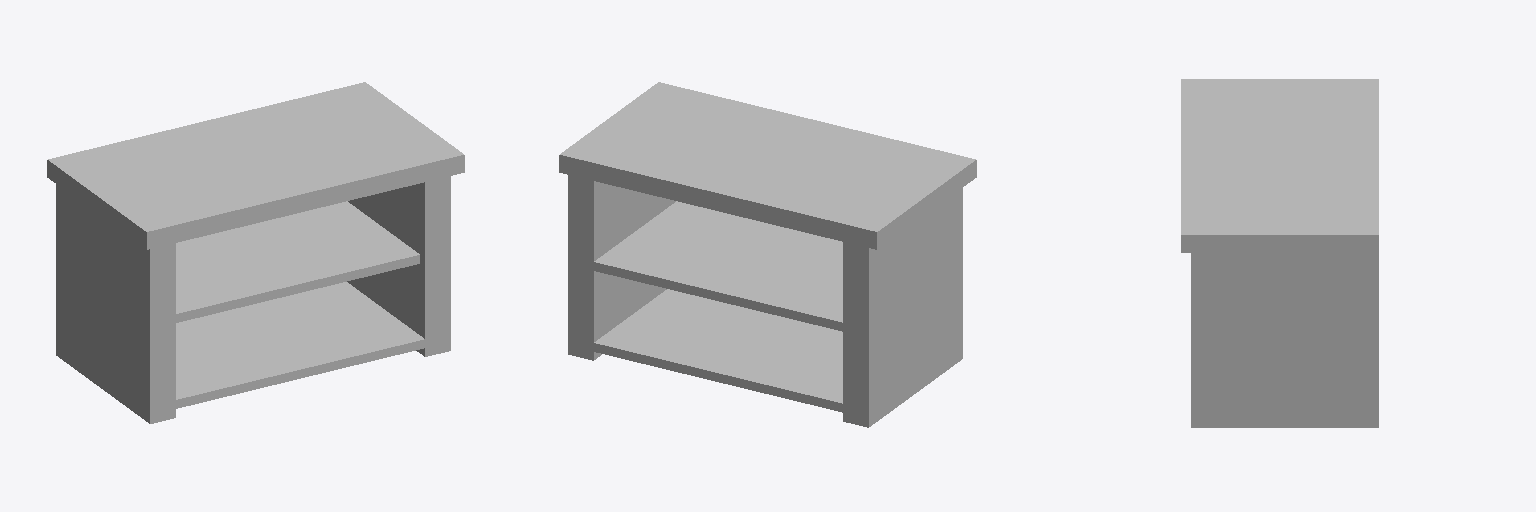
Rendered from shoe rack2.obj.
3 views of the same model, side by side, from view 1: azimuth 30°, elevation 25°; view 2: azimuth 150°, elevation 25°; view 3: azimuth 270°, elevation 25° (orthographic).
Visible parts, largest first — view 1: shoe_rack2; view 2: shoe_rack2; view 3: shoe_rack2.
Boxes of the visible parts, box(x1,y1,x2,y2) form: shoe_rack2: box(47, 82, 464, 423); shoe_rack2: box(559, 82, 976, 427); shoe_rack2: box(1181, 79, 1378, 427).
Bounding box in the file's own units: 37 × 22 × 20.